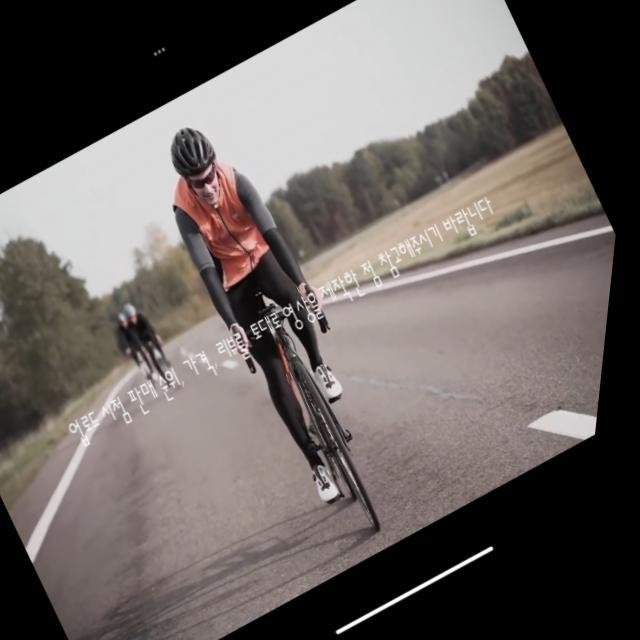Helmet: (157, 116, 230, 216)
